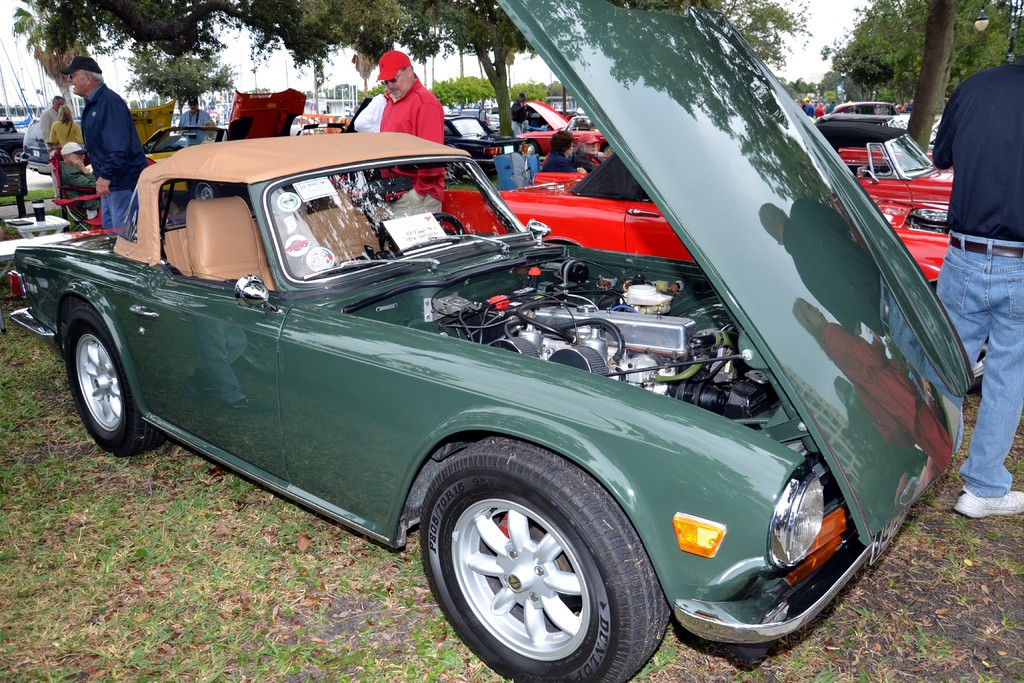Car: (0, 0, 988, 682)
